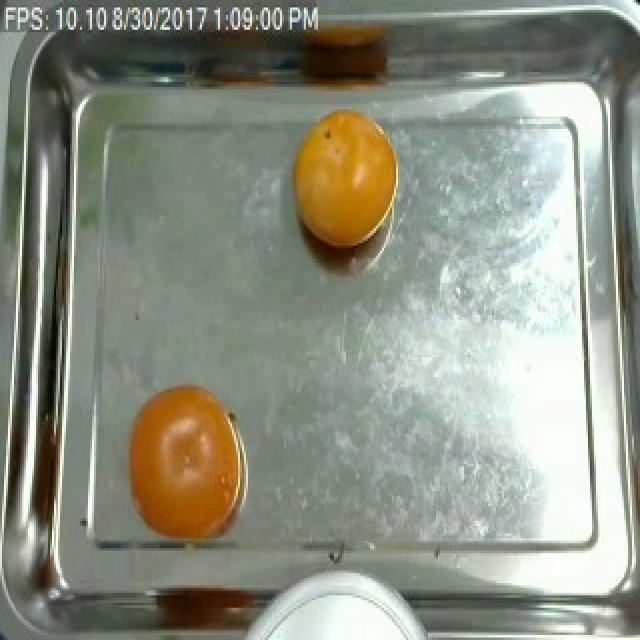Fruit: (116, 370, 258, 563), (276, 97, 406, 260), (144, 560, 286, 640)
